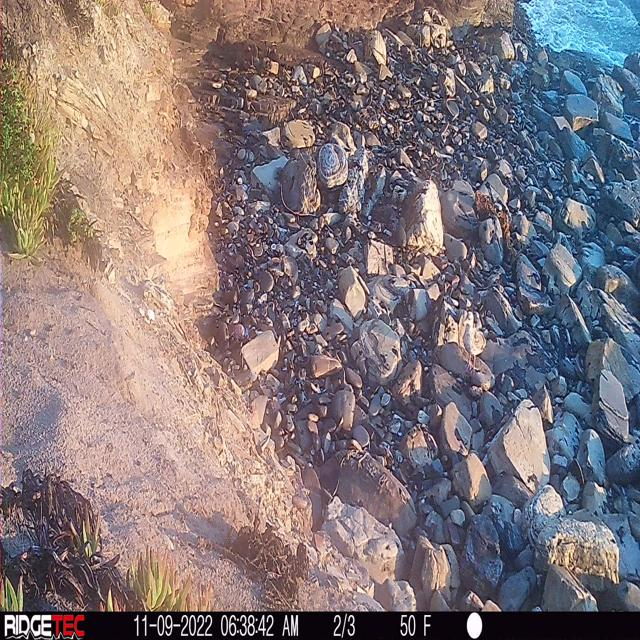bird: (457, 304, 490, 370)
